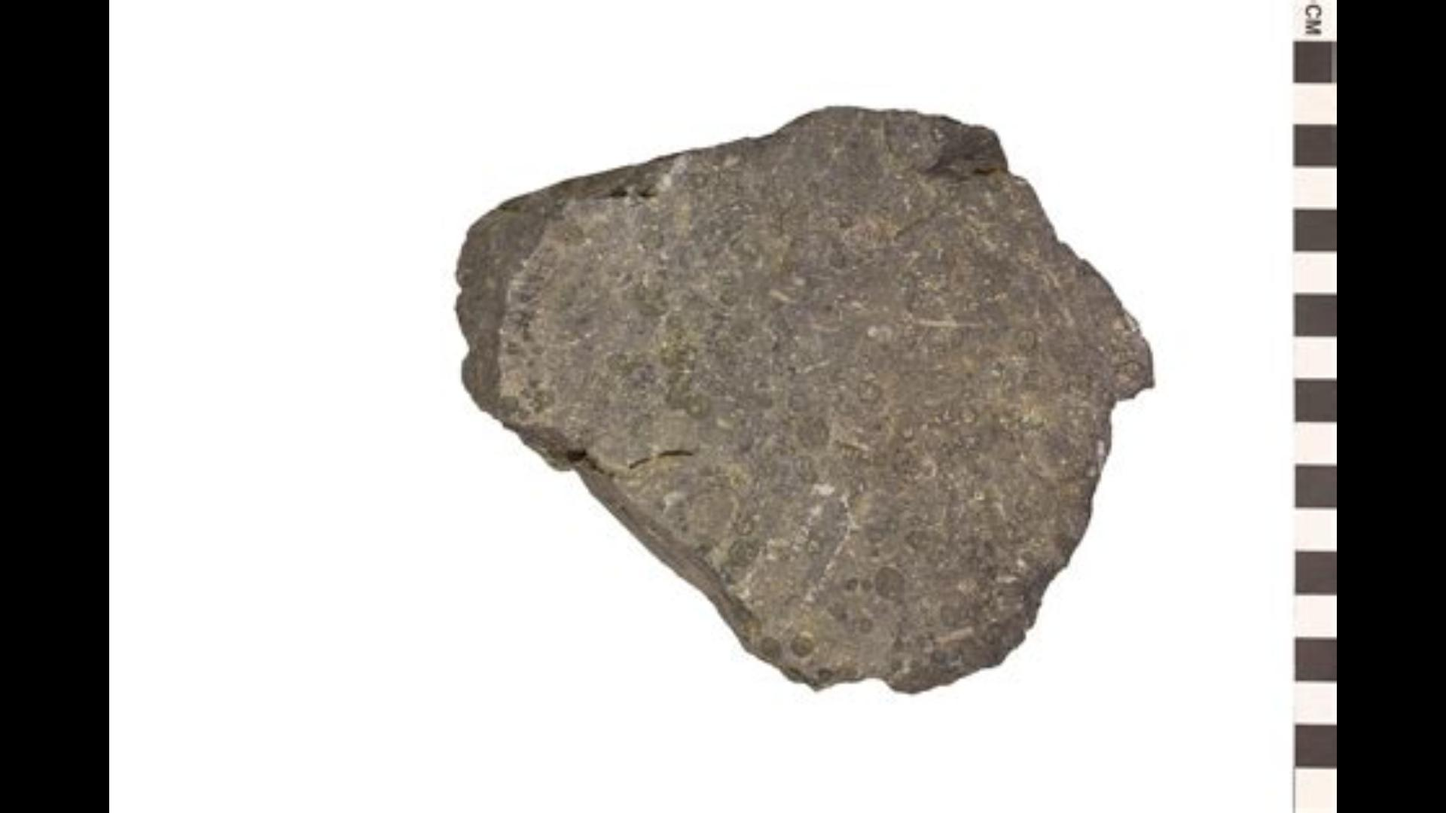rock: (459, 109, 1151, 691)
